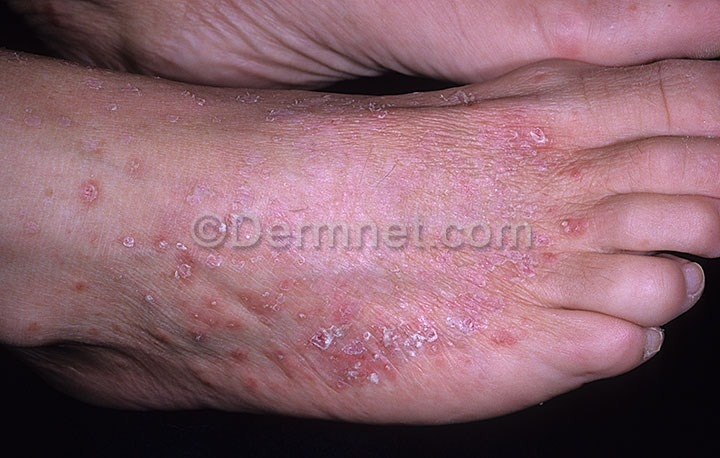Melasma: (166, 255, 560, 403), (313, 92, 578, 225), (52, 160, 197, 331)
